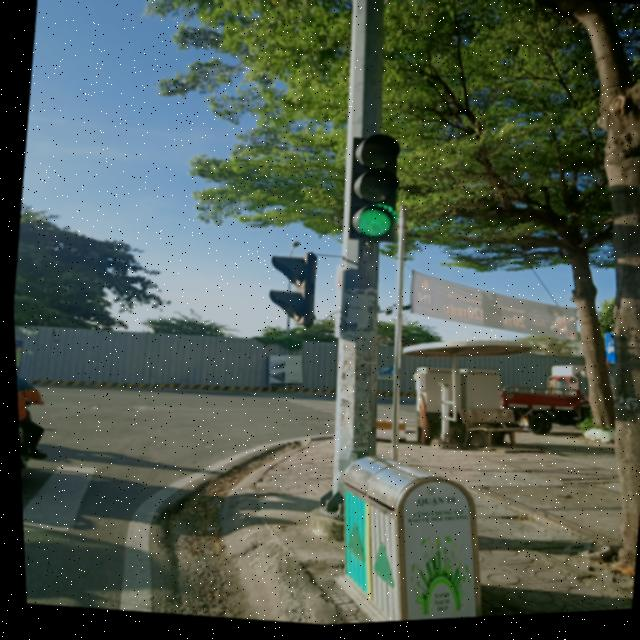Green: (319, 121, 418, 253)
